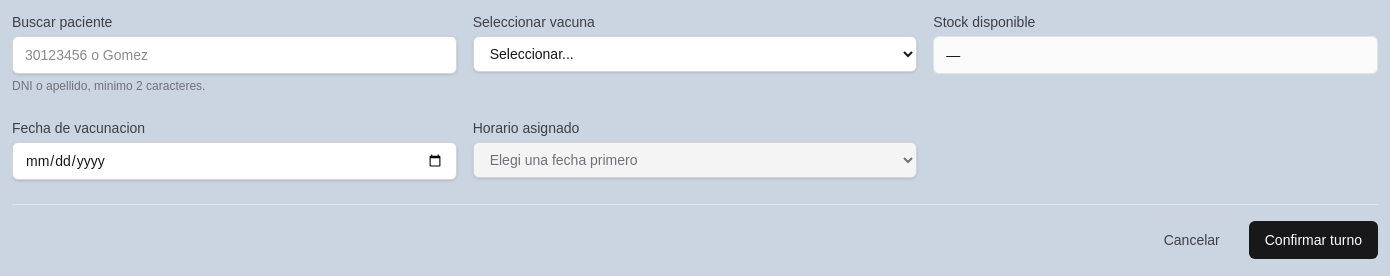
SIG-MEJ-04.1/04.3: disponibilidad del formulario › cancelar descarta una consulta de horarios todavía pendiente
Step 1. Type "2040-10-16" into the date field labelled "Fecha de vacunacion" → (234,161), box left=12, top=142, right=457, bottom=180
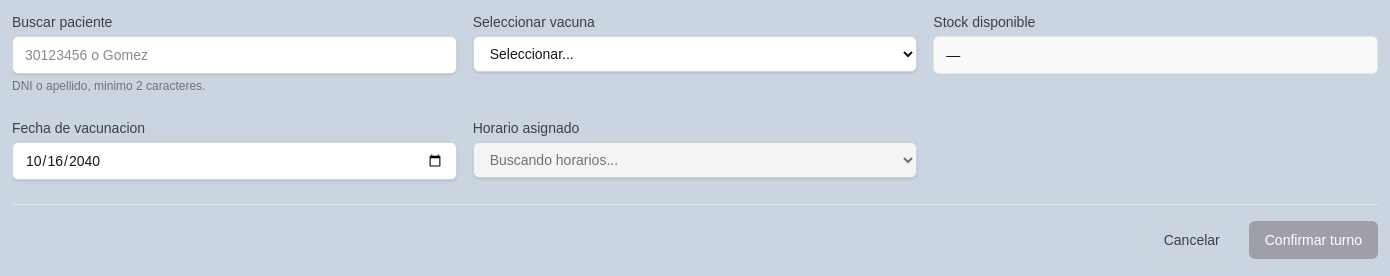
Step 2. Click the button "Cancelar" → (1192,240), box left=1147, top=221, right=1237, bottom=259
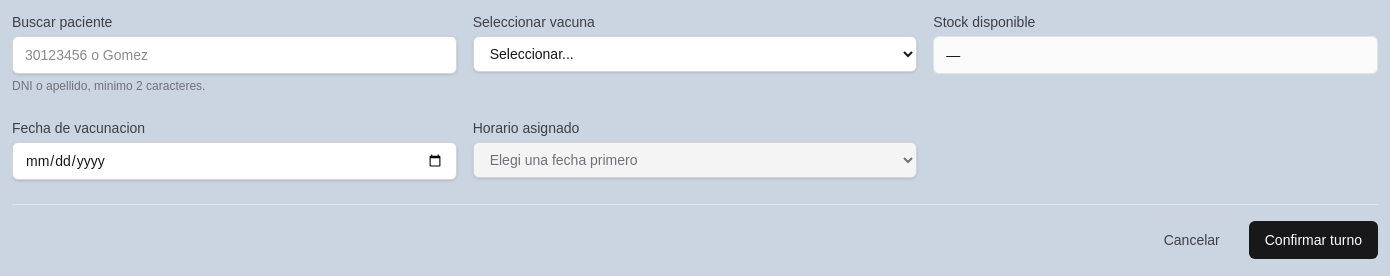
Expected: the date field labelled "Fecha de vacunacion" is empty, left=12, top=142, right=457, bottom=180
